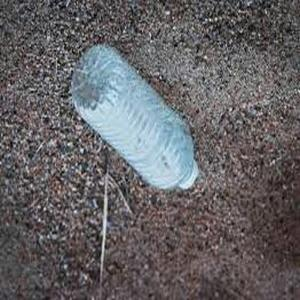Plastic: (71, 43, 201, 190)
